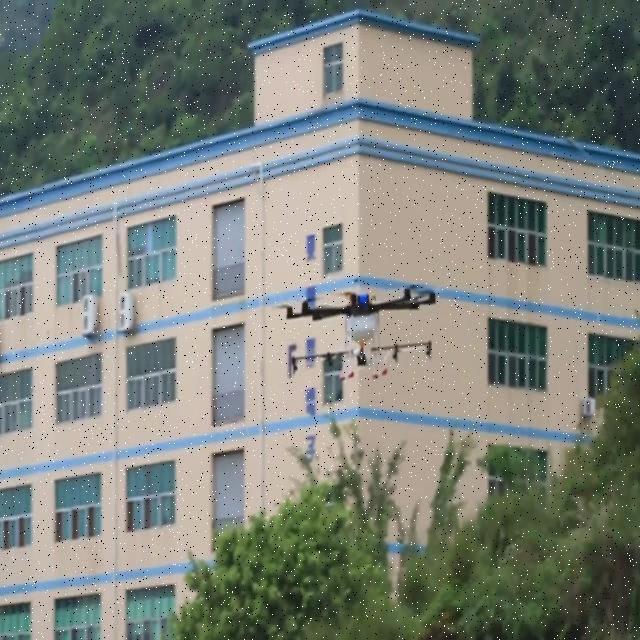UAV: (282, 281, 438, 381)
